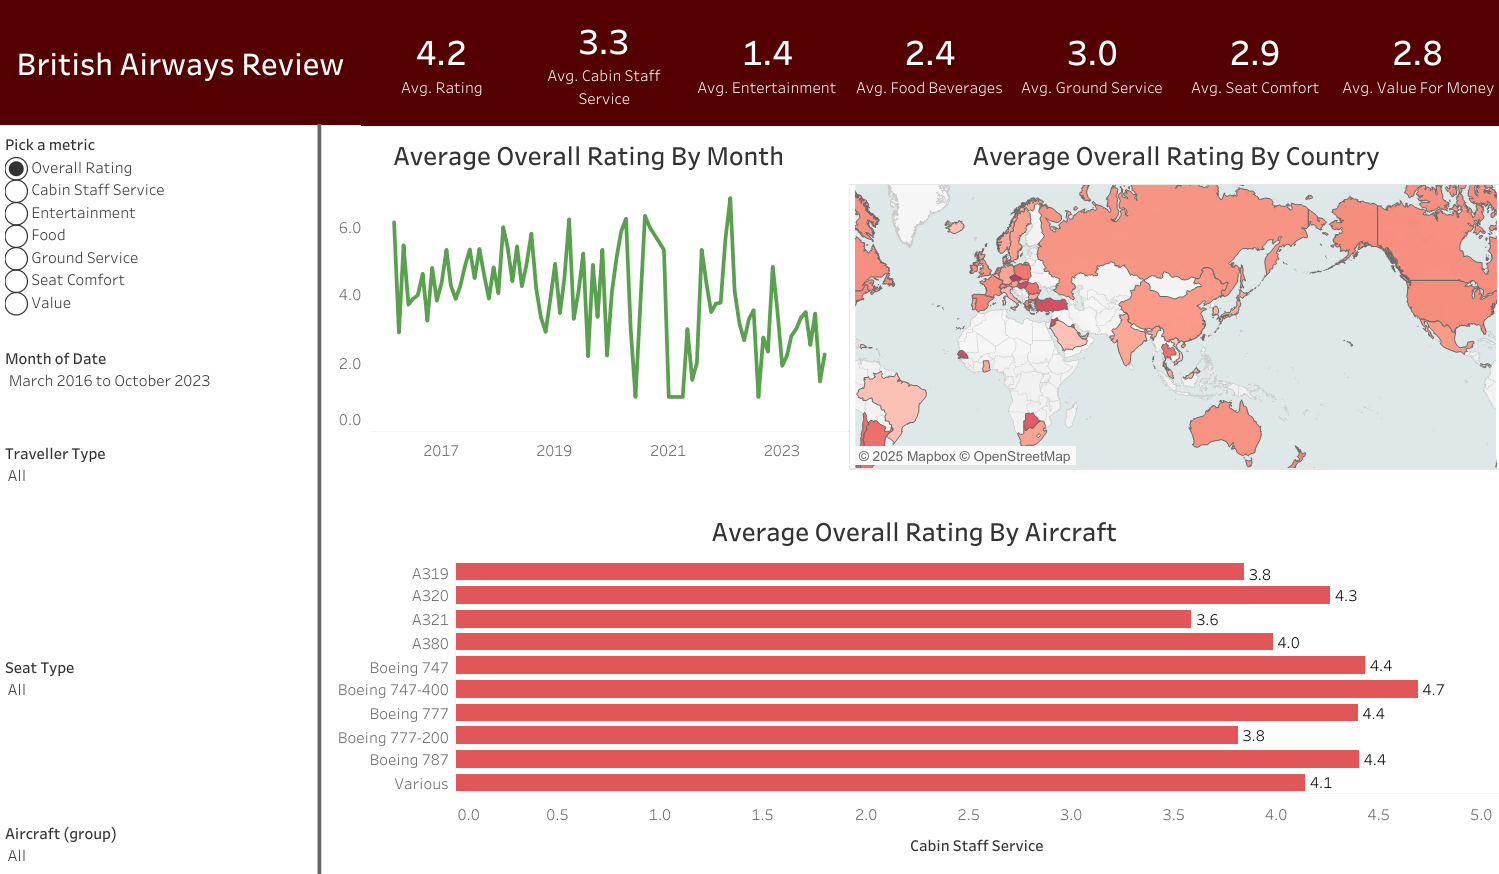

The page's visual inventory and layout, read from the dashboard file:
{"tool":"tableau","page":{"name":"Dashboard 1","canvas":[1200,700],"ordinal":0},"visuals":[{"type":"text","box":[0,0,289,100]},{"type":"worksheet","title":"Summary","mark":"Automatic","box":[289,0,911,100]},{"type":"parameter","param":"[Parameters].[Parameter 1]","box":[0,101,254,171]},{"type":"worksheet","title":"Month","mark":"Automatic","rows":["Calculation_692428476964581376"],"cols":["date"],"box":[264,104,414,270]},{"type":"worksheet","title":"Map","mark":"Automatic","box":[679,104,524,272]},{"type":"filter","title":"Map","param":"[federated.1enboom112aacz1glg6wq0g30k16].[tmn:date:qk]","box":[0,272,254,76]},{"type":"filter","title":"Map","param":"[federated.1enboom112aacz1glg6wq0g30k16].[none:traveller_type:nk]","box":[0,348,254,171]},{"type":"worksheet","title":"Aircraft","mark":"Automatic","cols":["Calculation_692428476964581376"],"box":[264,405,935,287]},{"type":"filter","title":"Map","param":"[federated.1enboom112aacz1glg6wq0g30k16].[none:seat_type:nk]","box":[0,519,254,151]}]}

Visuals, with their boxes in screenshot pixels (x1, y1, x2, y2), scaled from the page's 1200x700 canvas onto the 1499x874 screenshot:
text: 0, 0, 361, 125
"Summary" worksheet: 361, 0, 1498, 125
parameter: 0, 126, 317, 340
"Month" worksheet: 330, 130, 847, 467
"Map" worksheet: 848, 130, 1498, 469
"Map" filter: 0, 340, 317, 435
"Map" filter: 0, 435, 317, 648
"Aircraft" worksheet: 330, 506, 1498, 864
"Map" filter: 0, 648, 317, 837
